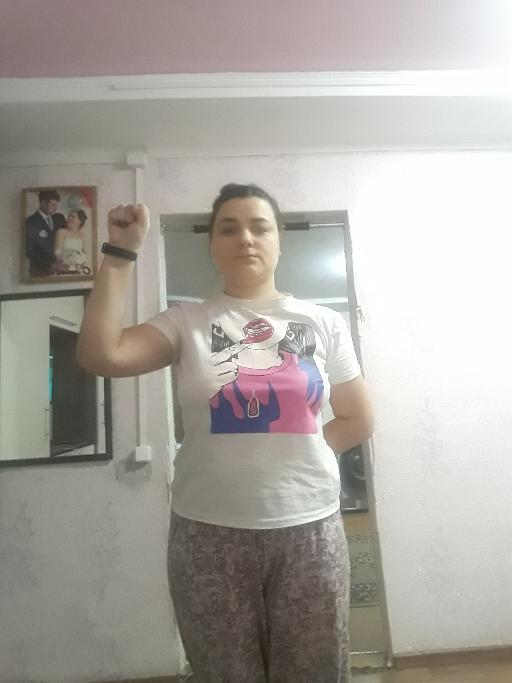fist: (103, 199, 151, 254)
